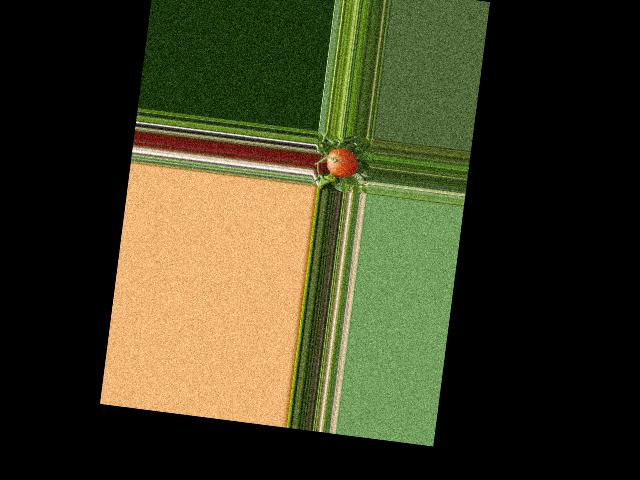tomato: (325, 146, 359, 178)
